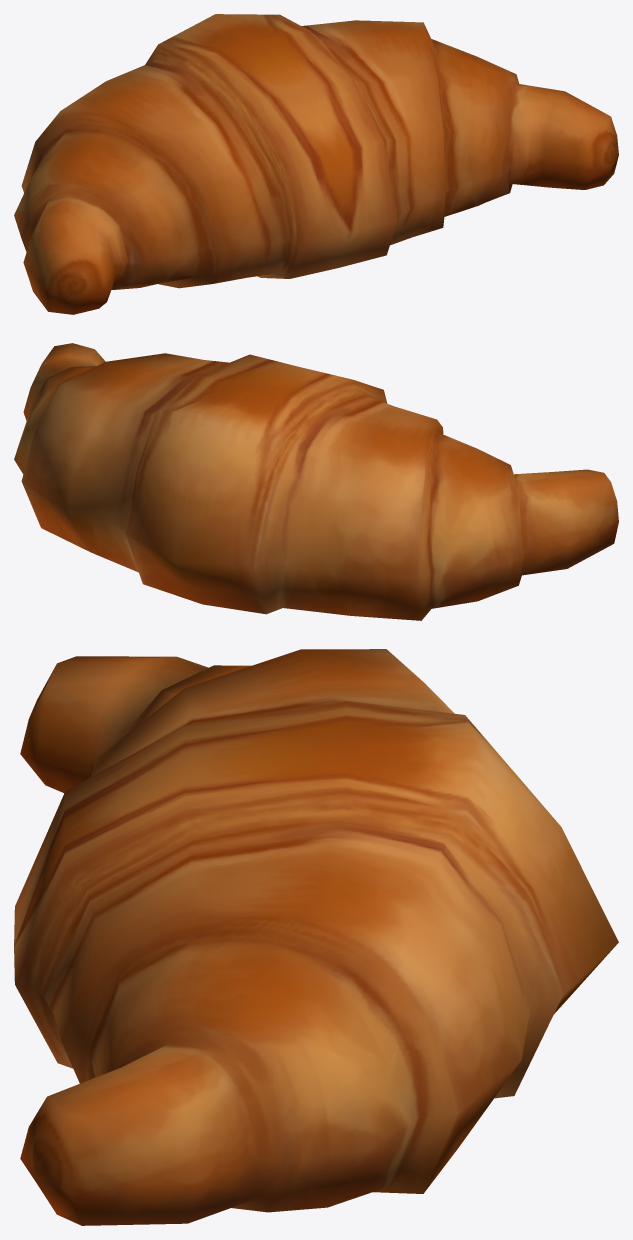
File: croissant.fbx
3 views of the same model, one above another, from view 1: azimuth 30°, elevation 25°; view 2: azimuth 150°, elevation 25°; view 3: azimuth 270°, elevation 25° (orthographic). The views are drawn at different scales.
Parts seen in each view (by area): view 1: croissant; view 2: croissant; view 3: croissant.
Part boxes in pixels (x1=…): croissant: x1=14, y1=14, x2=618, y2=314; croissant: x1=14, y1=343, x2=618, y2=620; croissant: x1=14, y1=649, x2=618, y2=1225.
Bounding box in the file's own units: 43.28 × 13.82 × 23.27.
